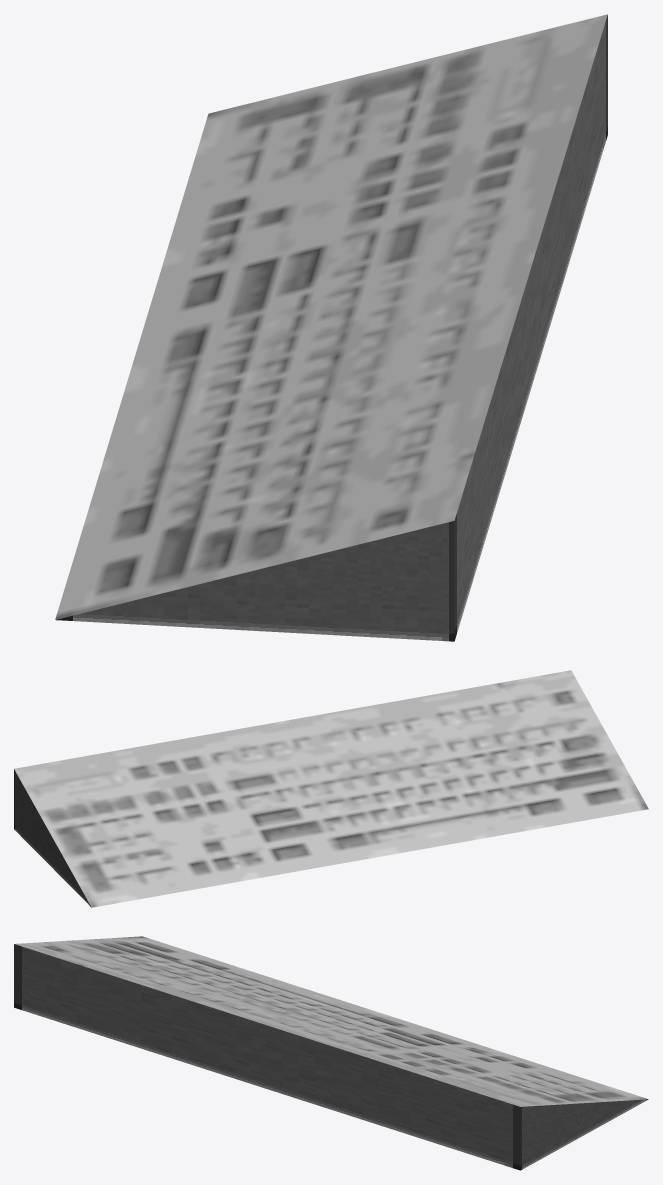
Rendered from primary_053.glb.
The picture shows the model from 3 angles, top to bottom: view 1: azimuth 30°, elevation 25°; view 2: azimuth 150°, elevation 25°; view 3: azimuth 270°, elevation 25°; orthographic projection. The views are drawn at different scales.
Parts seen in each view (by area): view 1: Object; view 2: Object; view 3: Object.
Boxes of the visible parts, left/top/right/bottom form: Object: left=55, top=14, right=607, bottom=641; Object: left=14, top=670, right=648, bottom=907; Object: left=14, top=936, right=648, bottom=1170.
Bounding box in the file's own units: 0.5172 × 0.0656 × 0.5923.
Materials: 4 (4 with a texture image).
